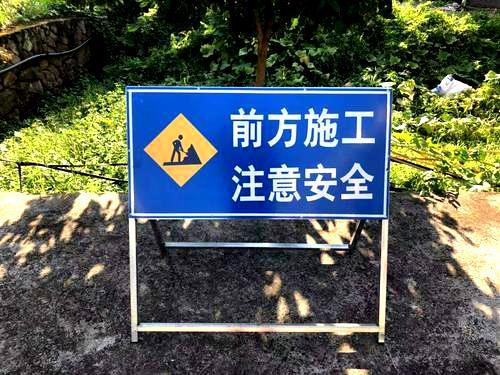sign: (129, 89, 388, 218)
